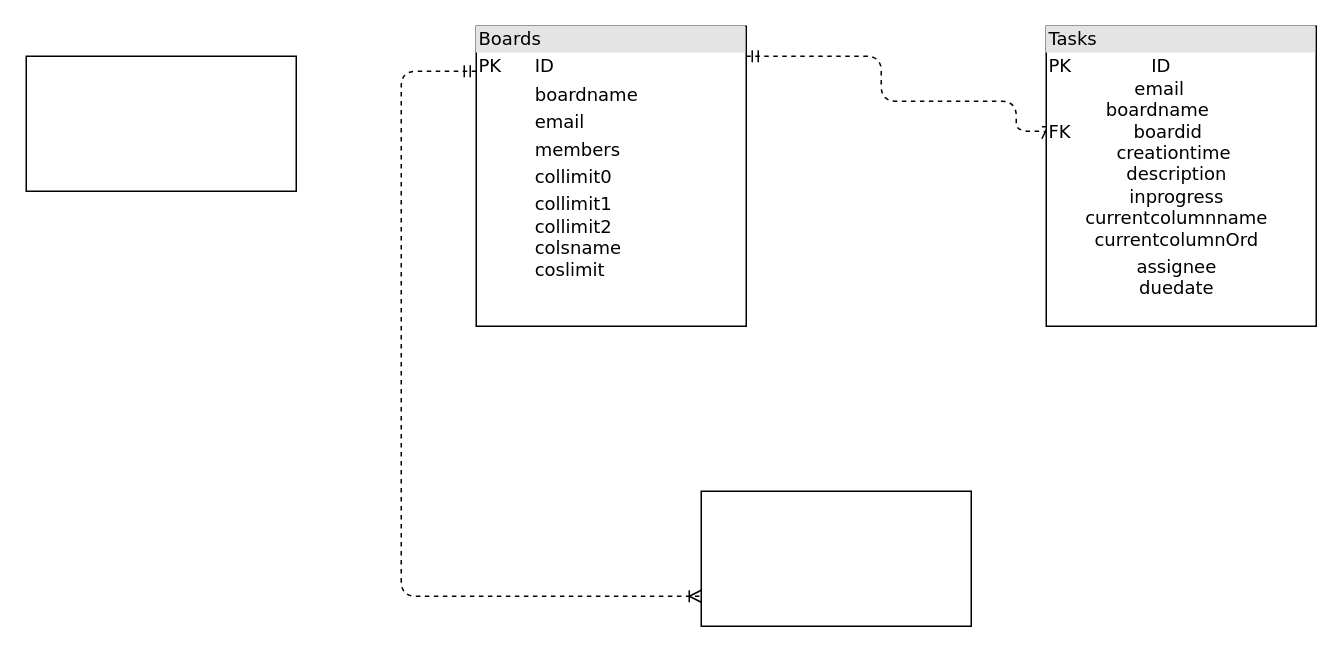
Image size: 1343x653. Some labels were removed from this diagram. Here are the shapes that lost their labels. From the top down, the centre of each, then its label:
point 160,123: Users PK email password
point 835,558: Columns PK ID columnname columnOrd FK boardid limit
